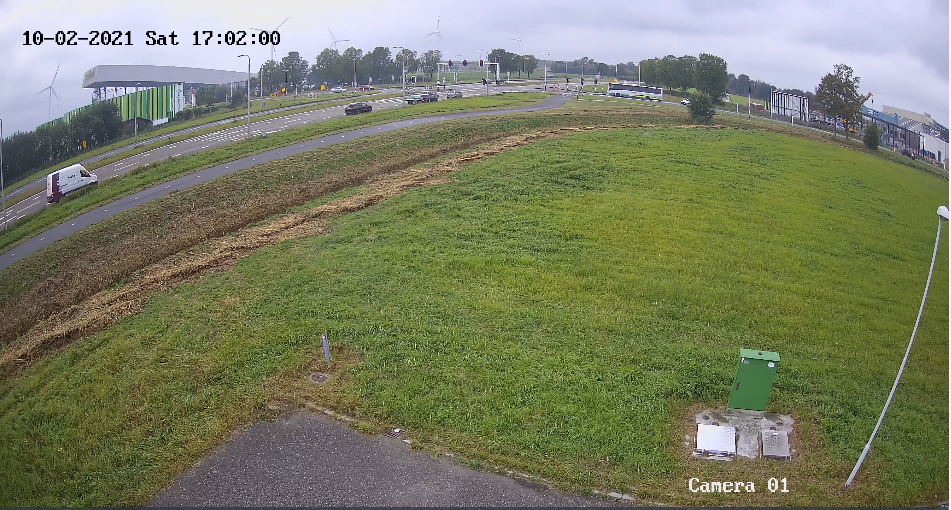werkbus: (36, 155, 110, 214)
